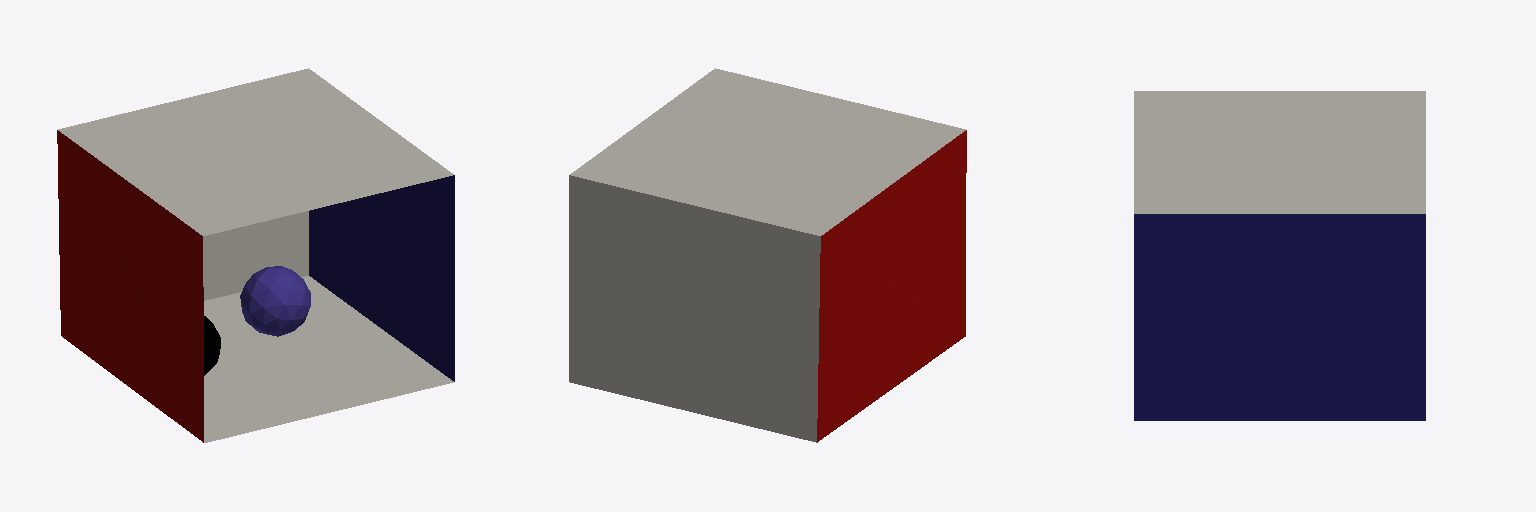
The model's file is CornellBox-Sphere-1233.obj.
The picture shows the model from 3 angles: view 1: azimuth 30°, elevation 25°; view 2: azimuth 150°, elevation 25°; view 3: azimuth 270°, elevation 25°; orthographic projection.
Parts seen in each view (by area): view 1: ceiling, leftWall, floor, rightWall, backWall, leftSphere, rightSphere; view 2: backWall, ceiling, leftWall; view 3: rightWall, ceiling.
Boxes of the visible parts, box(x1,y1,x2,y2) form: ceiling: box(58, 68, 453, 235); leftWall: box(57, 130, 203, 442); floor: box(204, 276, 453, 442); rightWall: box(309, 175, 454, 381); backWall: box(203, 211, 308, 300); leftSphere: box(240, 266, 310, 336); rightSphere: box(204, 316, 220, 375); backWall: box(569, 175, 820, 442); ceiling: box(570, 68, 965, 235); leftWall: box(817, 130, 966, 442); rightWall: box(1134, 214, 1425, 420); ceiling: box(1134, 91, 1425, 213).
Bounding box in the file's own units: 2.02 × 1.59 × 2.03.